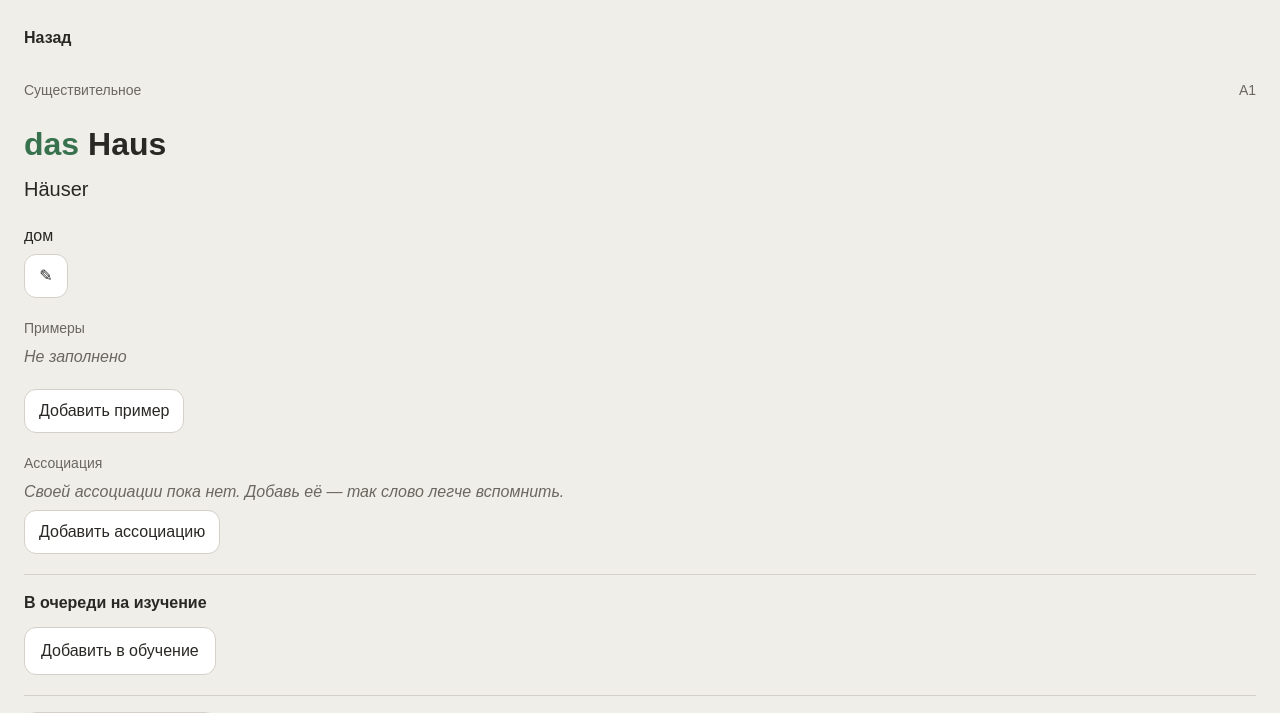
Scenario: М12 own-field editors in the card host (M-EDIT CP2) › E1 the pencil waits for the context; a save rereads the card and its context in place; «Шаг назад» restores the common one
Expected: the heading "das Haus" is shown, [24,126,166,162]
Click the button named "Изменить личный перевод".
click(46, 276)  # box [24,254,68,298]
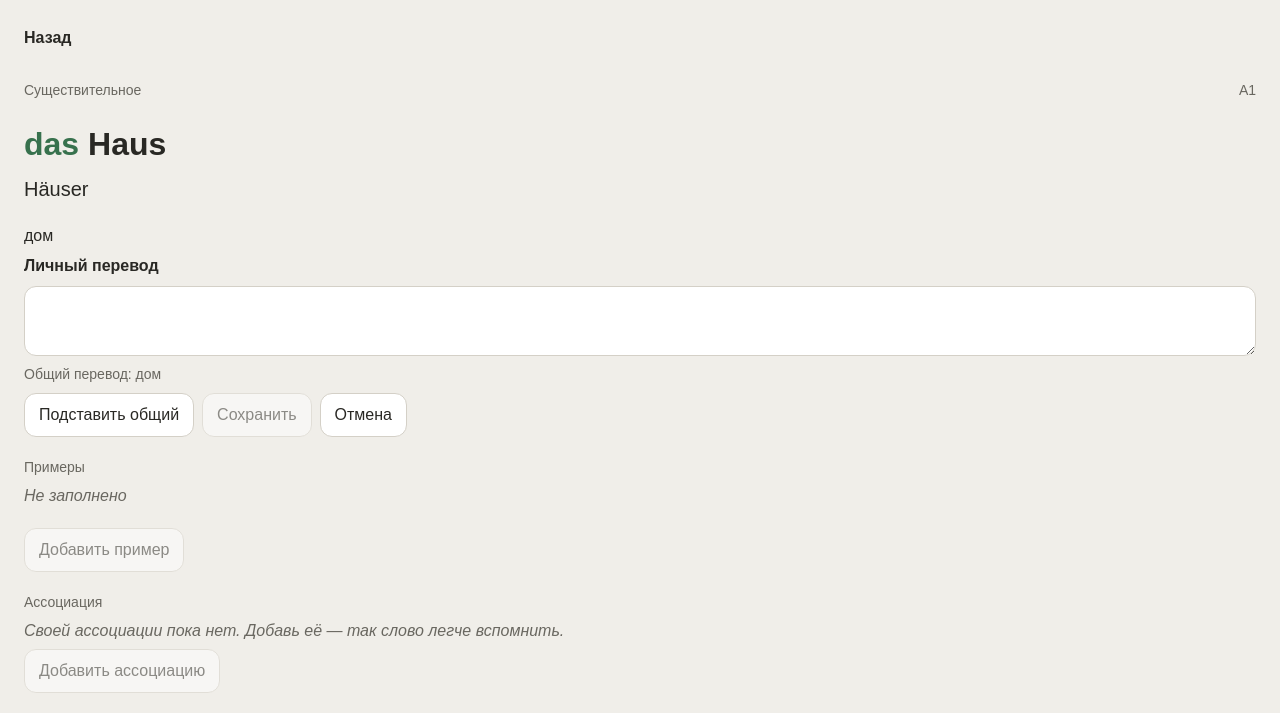
Type "домик" into the text box.
click(640, 321); type("домик")  # box [24,286,1256,356]
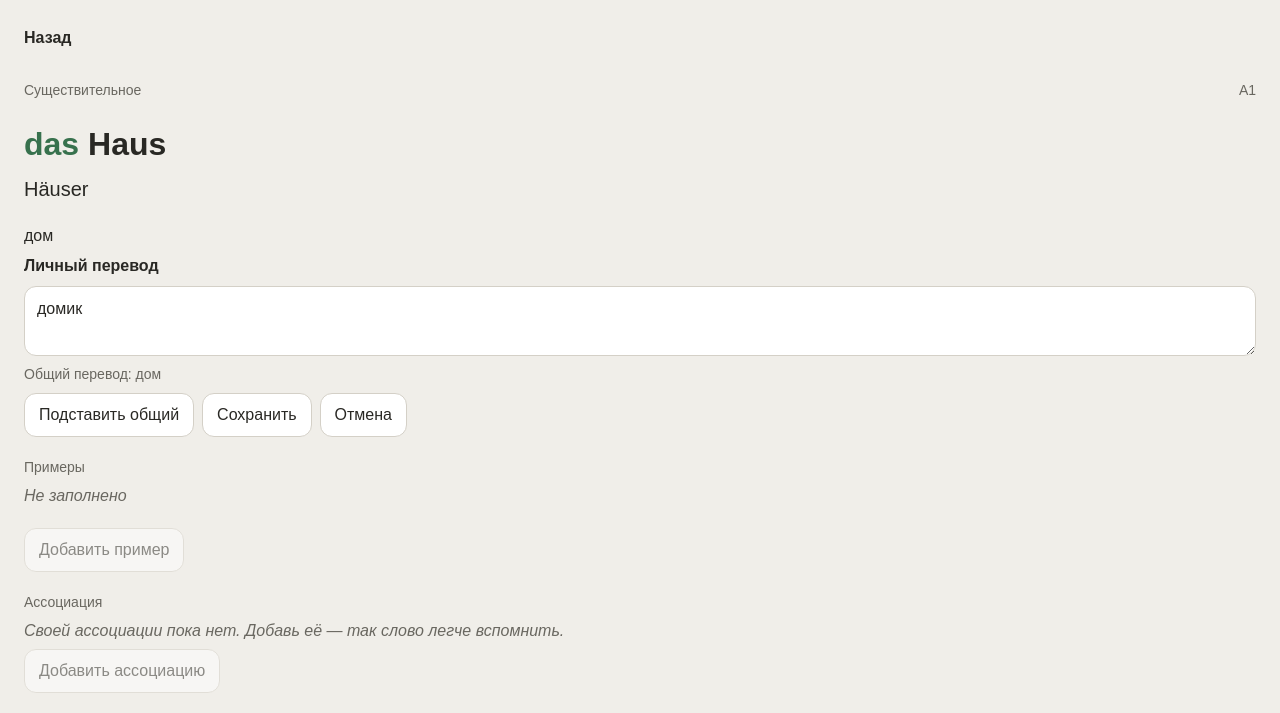
Click the button "Сохранить".
click(257, 415)  # box [202,393,312,437]
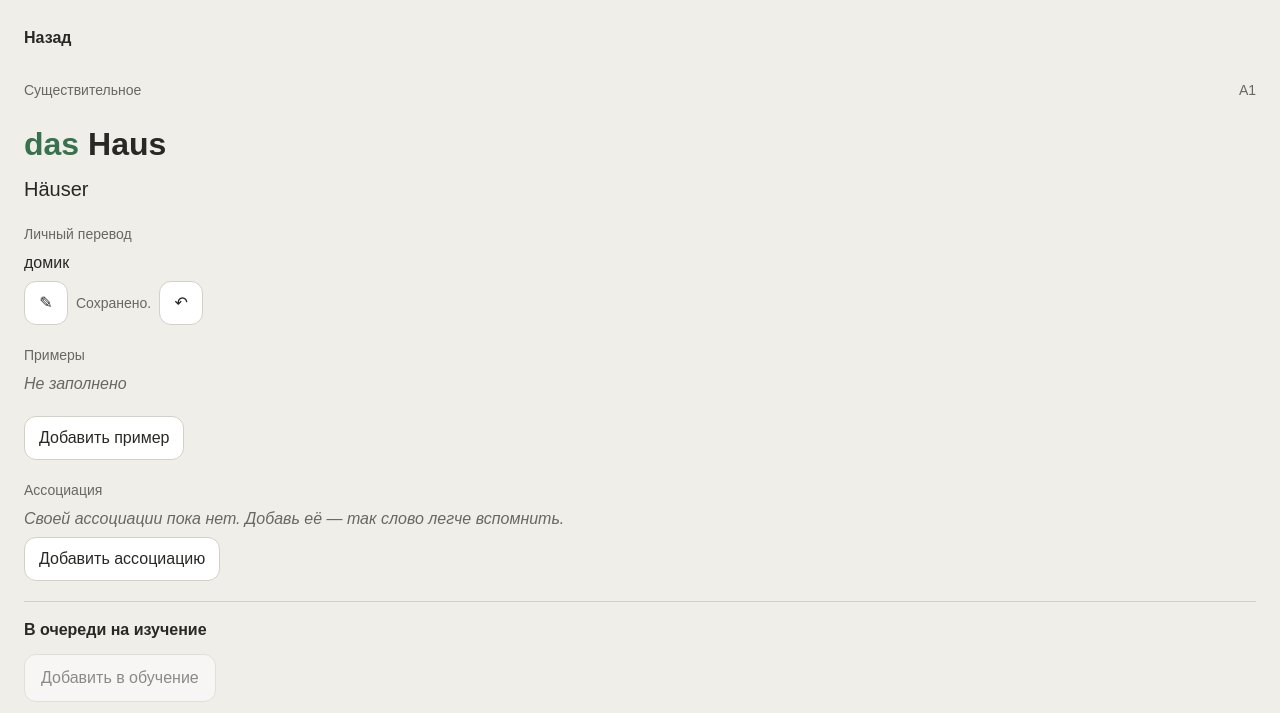
Expected: the text "Личный перевод" is shown, [24,226,132,242]
Expected: the text "домик" is shown, [24,254,69,271]
Expected: the text "Сохранено." is shown, [76,293,151,314]
Click the button named "Шаг назад".
click(181, 303)  # box [159,281,203,325]
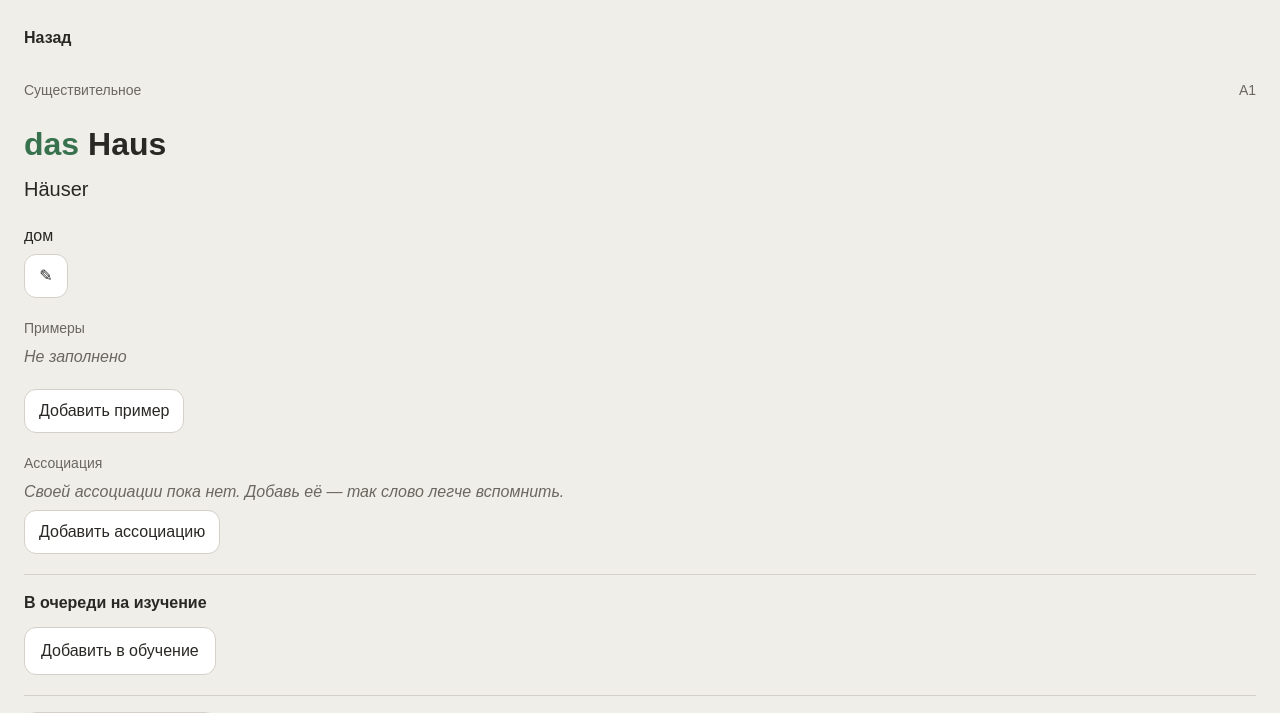
Expected: the text "дом" is shown, [24,227,53,244]
Expected: the text "домик" is gone
